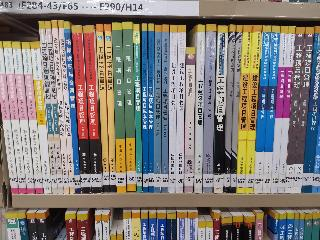book-spine: (291, 26, 315, 195), (2, 41, 28, 194), (82, 26, 105, 196), (37, 20, 59, 196), (71, 24, 93, 195), (20, 39, 44, 194), (260, 25, 282, 194), (11, 40, 35, 194), (50, 20, 71, 196), (275, 26, 296, 195), (233, 25, 254, 193), (57, 20, 77, 195), (44, 21, 64, 195), (244, 25, 264, 195), (300, 25, 320, 195), (64, 21, 83, 195), (211, 25, 230, 195), (254, 25, 273, 195), (286, 26, 305, 196), (31, 41, 52, 193), (270, 25, 289, 193), (0, 41, 19, 195), (120, 22, 137, 192), (112, 22, 128, 194), (96, 23, 111, 193), (224, 24, 237, 193), (231, 24, 244, 193), (166, 24, 178, 195), (104, 24, 116, 192), (194, 25, 206, 193), (183, 47, 196, 193), (132, 23, 143, 194), (204, 24, 215, 194), (146, 22, 156, 195), (176, 26, 186, 192), (161, 25, 169, 194), (142, 25, 150, 193), (155, 24, 162, 193)
